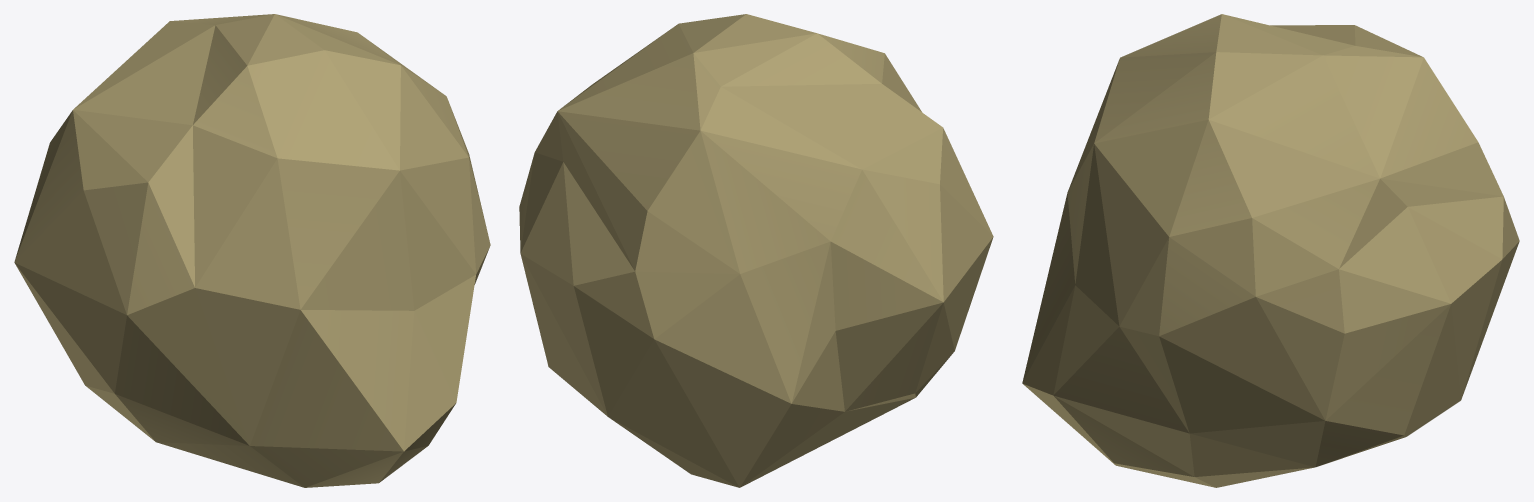
The model's file is SM_small_rock_15.fbx.
The picture shows the model from 3 angles, left to right: view 1: azimuth 30°, elevation 25°; view 2: azimuth 150°, elevation 25°; view 3: azimuth 270°, elevation 25°; orthographic projection. The views are drawn at different scales.
Parts seen in each view (by area): view 1: small_rock_15; view 2: small_rock_15; view 3: small_rock_15.
Boxes of the visible parts, x1=… form: small_rock_15: x1=14, y1=14, x2=490, y2=487; small_rock_15: x1=519, y1=14, x2=993, y2=487; small_rock_15: x1=1022, y1=14, x2=1519, y2=487.
Size of the model in its own units: 32.78 by 30.63 by 32.37.
